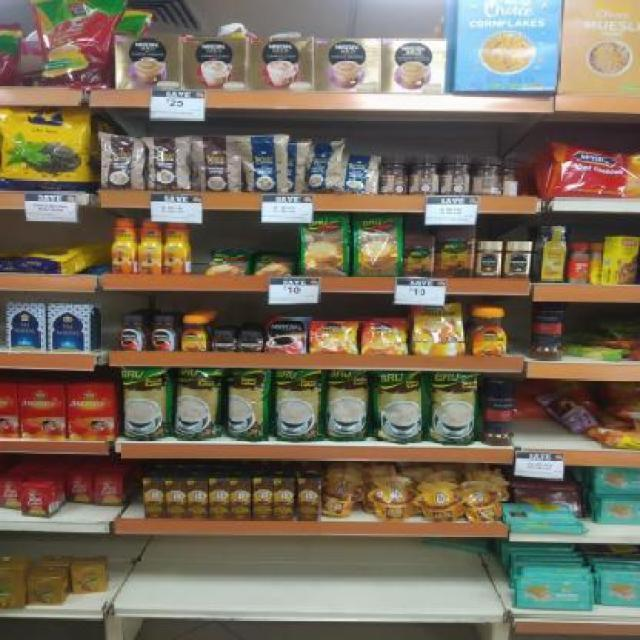Coffee: (416, 303, 464, 354), (470, 309, 506, 356), (310, 321, 357, 354), (363, 321, 406, 355), (267, 316, 306, 353), (165, 222, 191, 273), (140, 218, 163, 274), (115, 218, 135, 274), (182, 317, 210, 352), (150, 317, 178, 351), (118, 317, 146, 351), (477, 241, 501, 276), (509, 241, 532, 276), (212, 329, 238, 350), (239, 330, 263, 352)
